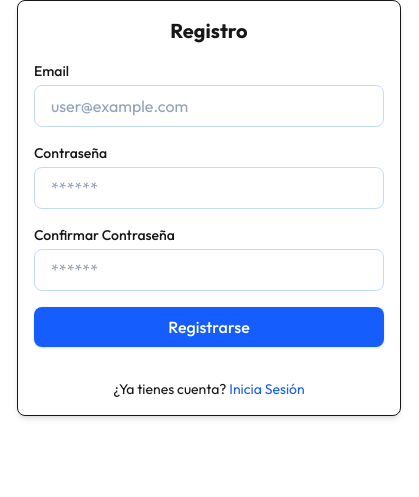
Signup Flow › displays error message when signupAction returns error
Step 1. Type "existing@example.com" into the field labelled "Email" → (209, 106), box x1=34 y1=85 x2=384 y2=127
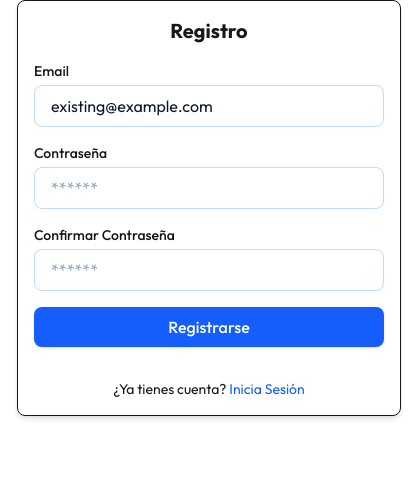
Step 2. Type "password123" into the password field labelled "Contraseña" → (209, 188), box x1=34 y1=167 x2=384 y2=209
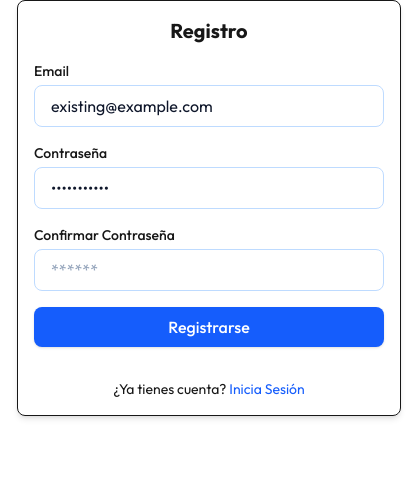
Step 3. Type "password123" into the password field labelled "Confirmar Contraseña" → (209, 270), box x1=34 y1=249 x2=384 y2=291
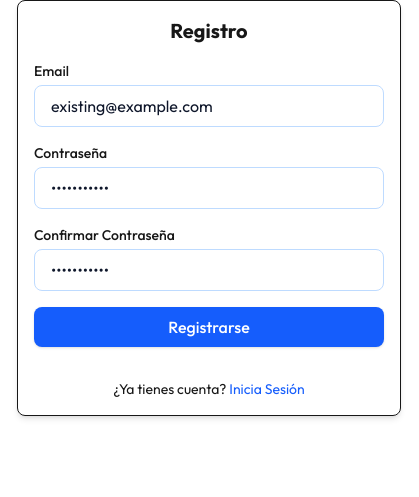
Step 4. Click the button "Registrarse" → click(209, 327), box x1=34 y1=307 x2=384 y2=347
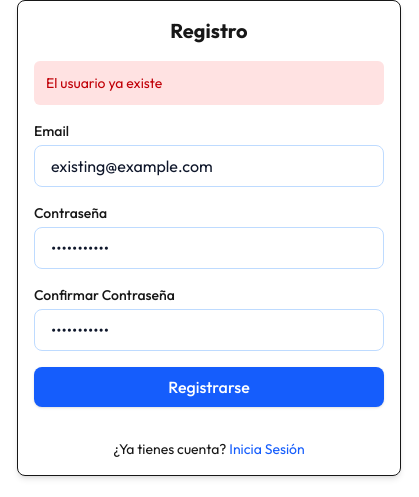
Expected: the text "El usuario ya existe" is shown, x1=34 y1=61 x2=384 y2=105
